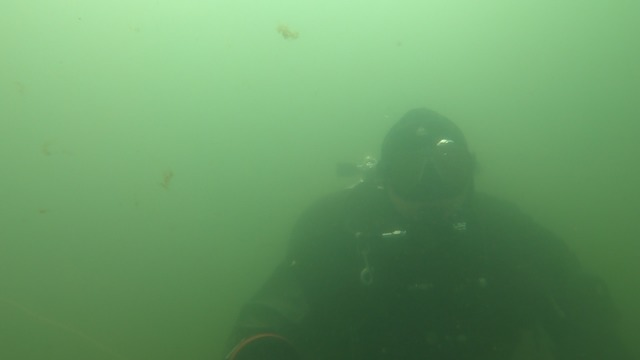Diver: (191, 89, 629, 357)
Head: (357, 102, 493, 249)
